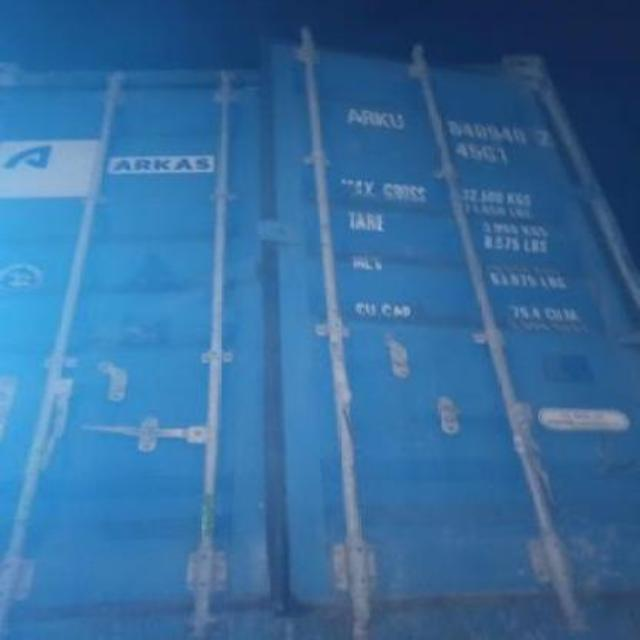0: (474, 122, 488, 140), (512, 126, 526, 142)
2: (536, 128, 556, 148)
4: (501, 122, 514, 144), (461, 120, 474, 138)
8: (446, 116, 462, 140)
9: (486, 122, 502, 142)
A: (346, 106, 362, 126)
K: (374, 109, 388, 129)
R: (362, 110, 374, 126)
U: (386, 113, 404, 131)
